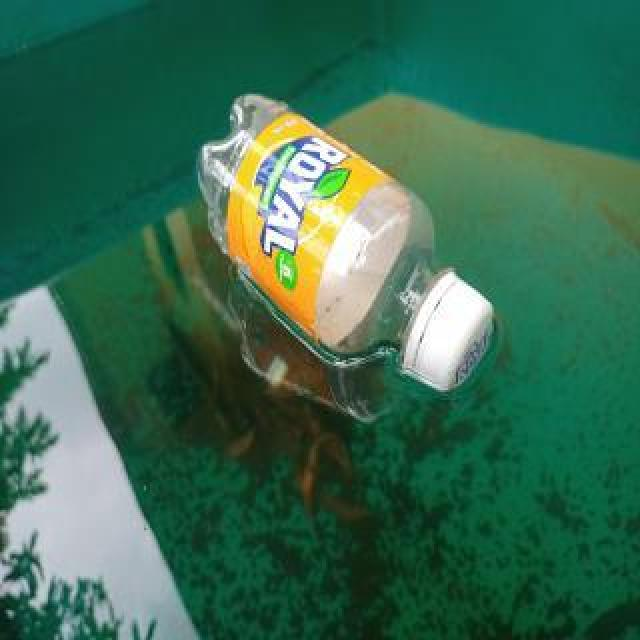bottle: (195, 92, 497, 394)
